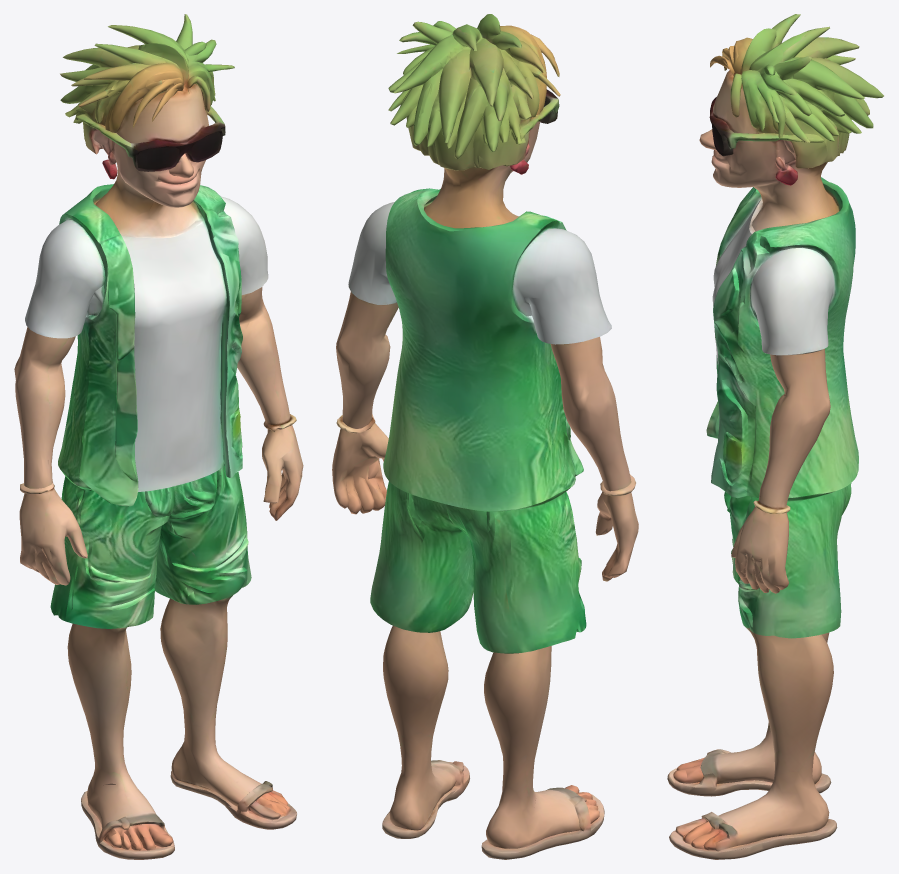
File: beachgoerNpc.glb
3 views of the same model, side by side, from view 1: azimuth 30°, elevation 25°; view 2: azimuth 150°, elevation 25°; view 3: azimuth 270°, elevation 25° (orthographic). The views are drawn at different scales.
Visible parts, largest first — view 1: model; view 2: model; view 3: model.
Part boxes in pixels (x1,y1,x2,y2): model: (14, 14, 303, 859); model: (332, 14, 638, 859); model: (667, 14, 883, 859).
Size of the model in its own units: 0.7197 by 1.9 by 0.4798.
1 material, 1 textured.
